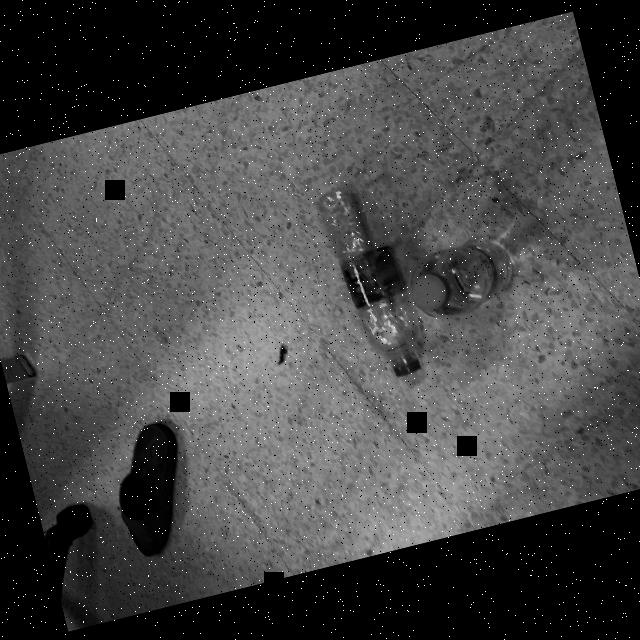plastic_bottle: (314, 175, 434, 386), (403, 230, 525, 324)
